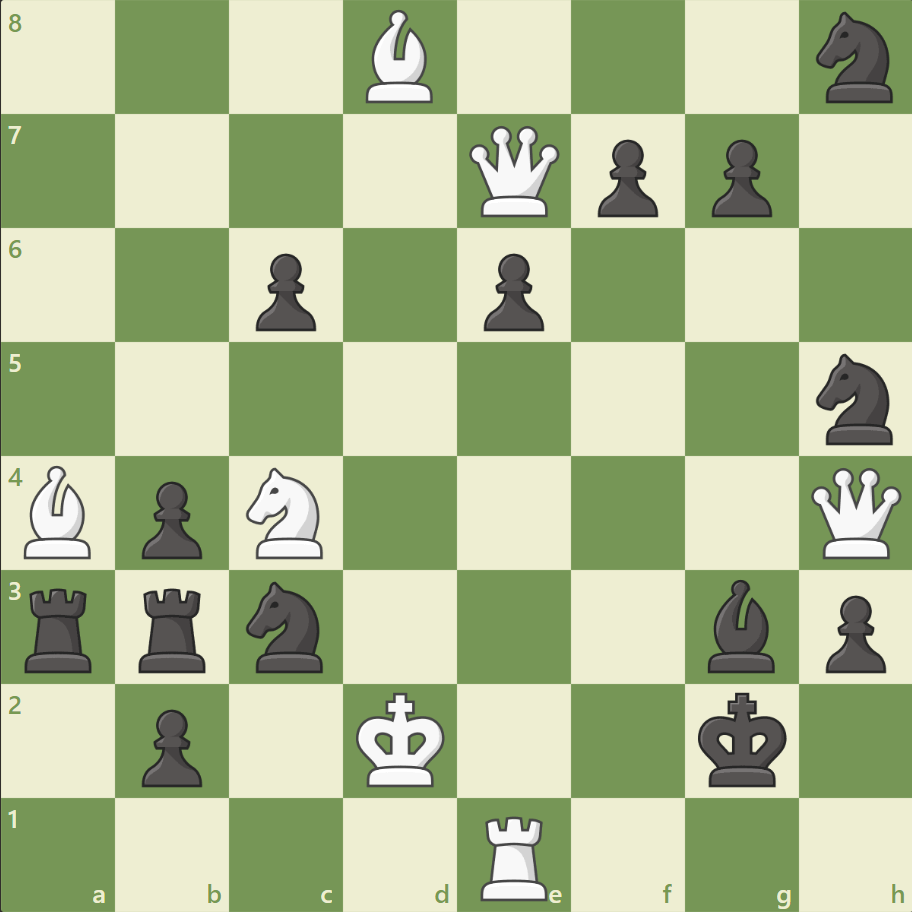B: (358, 6, 442, 109), (17, 460, 101, 563)
K: (351, 685, 451, 793)
N: (238, 461, 335, 564)
Q: (464, 122, 563, 222), (805, 463, 904, 562)
R: (473, 806, 556, 904)
b: (698, 574, 782, 676)
k: (692, 685, 792, 793)
n: (806, 7, 903, 110), (806, 348, 903, 450), (238, 575, 335, 677)
p: (701, 132, 776, 223), (247, 246, 322, 337), (474, 246, 549, 337), (133, 473, 208, 564), (133, 700, 208, 791), (588, 132, 662, 223), (815, 586, 889, 677)
r: (19, 579, 102, 676), (133, 579, 215, 676)
